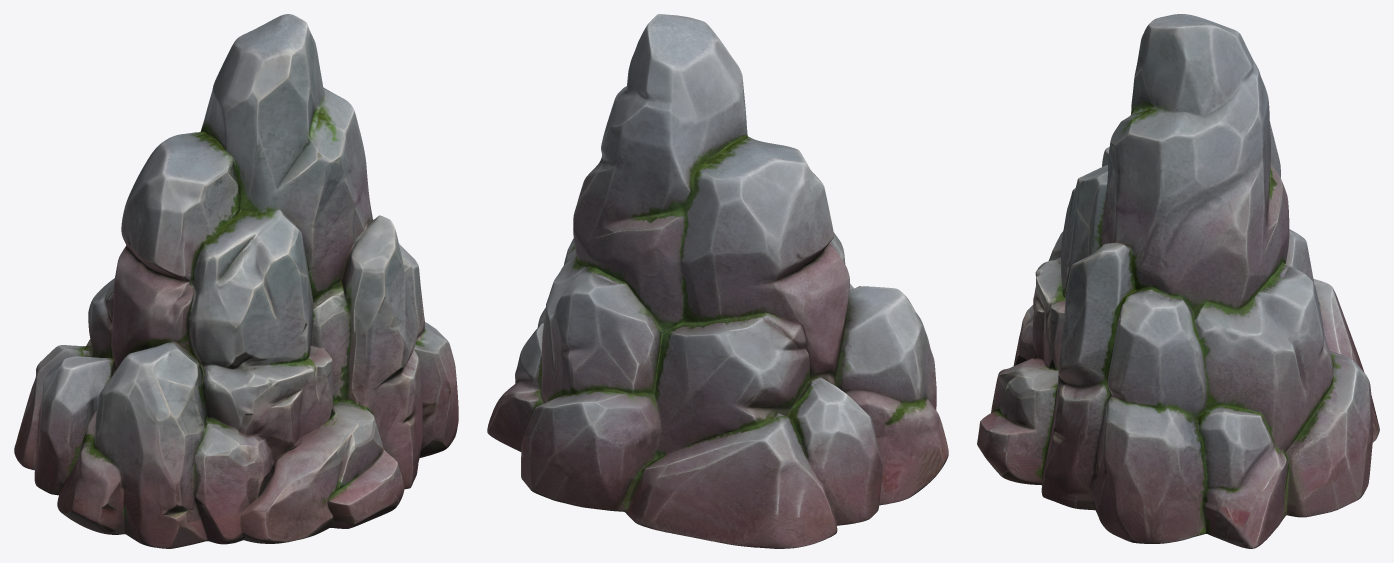
Rendered from Meshy_AI_low_poly_beautiful_mo_1016003151_texture.fbx.
The picture shows the model from 3 angles, left to right: view 1: azimuth 30°, elevation 25°; view 2: azimuth 150°, elevation 25°; view 3: azimuth 270°, elevation 25°; orthographic projection. The views are drawn at different scales.
Parts seen in each view (by area): view 1: Mesh_0; view 2: Mesh_0; view 3: Mesh_0.
Boxes of the visible parts, x1,y1,x2,y2 form: Mesh_0: [14, 14, 458, 548]; Mesh_0: [487, 14, 948, 548]; Mesh_0: [977, 14, 1379, 548].
Size of the model in its own units: 185 by 190 by 153.
1 material, 1 textured.
